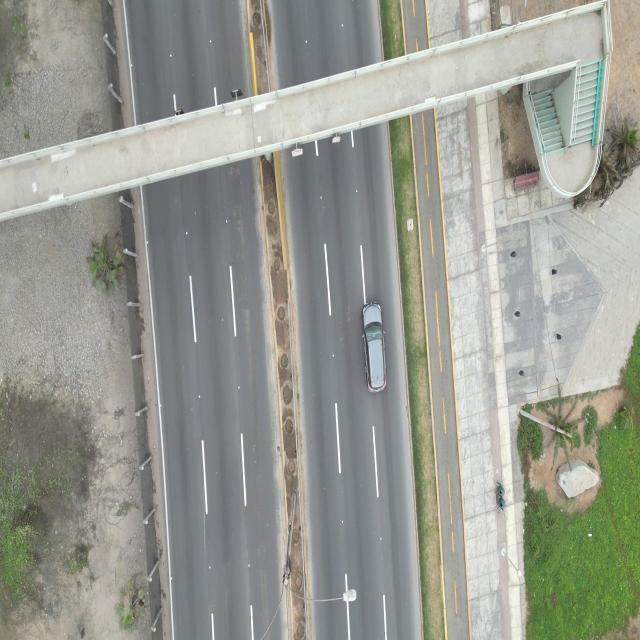Car: (362, 301, 386, 396)
